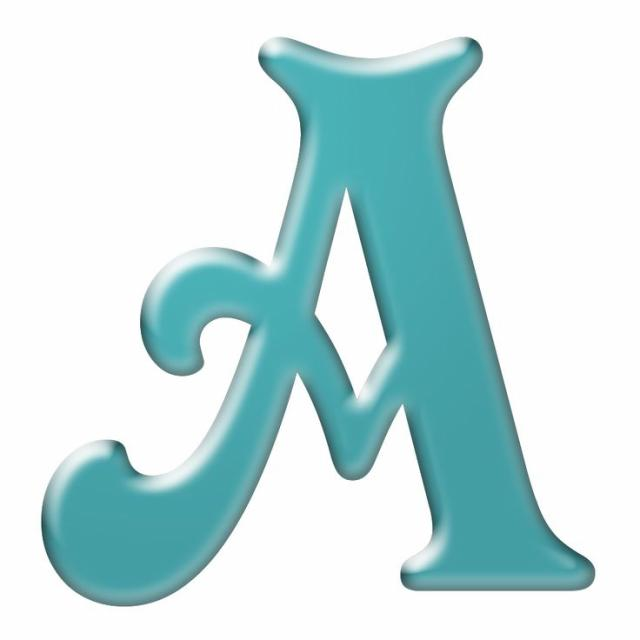A: (17, 18, 606, 616)
